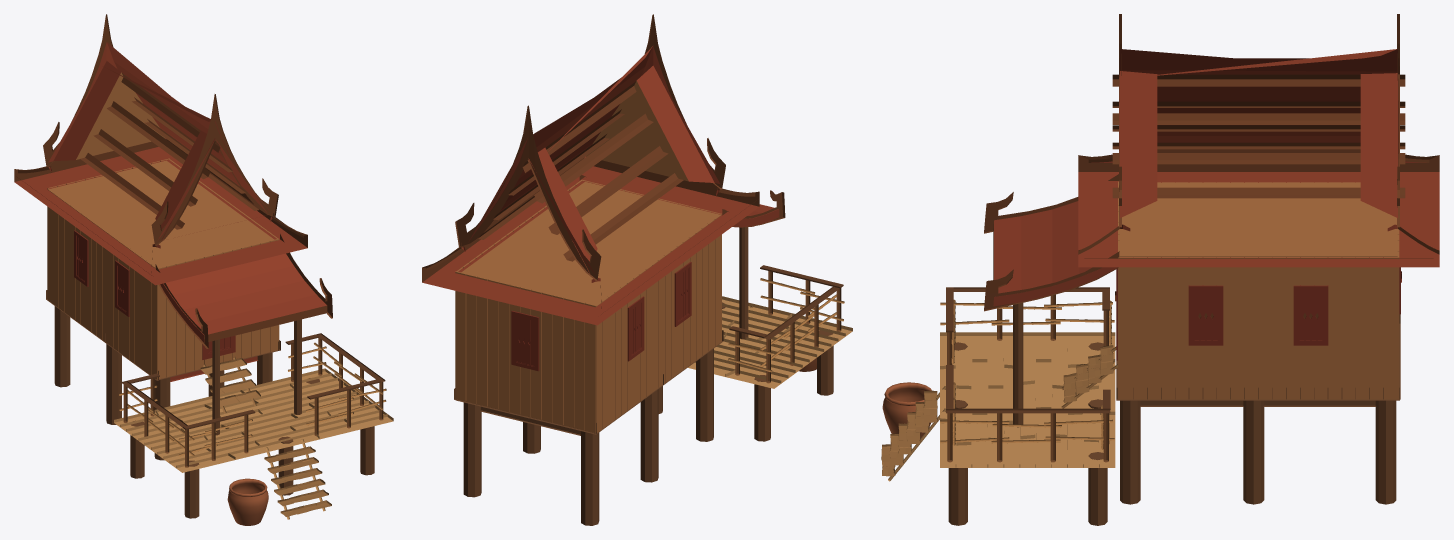
File: thai_house1.glb
3 views of the same model, side by side, from view 1: azimuth 30°, elevation 25°; view 2: azimuth 150°, elevation 25°; view 3: azimuth 270°, elevation 25° (orthographic). The views are drawn at different scales.
Visible parts, largest first — view 1: thai_house1; view 2: thai_house1; view 3: thai_house1.
Part boxes in pixels (x1=…): thai_house1: x1=14, y1=14, x2=393, y2=525; thai_house1: x1=422, y1=14, x2=852, y2=525; thai_house1: x1=881, y1=14, x2=1439, y2=525.
Size of the model in its own units: 5.31 by 8.55 by 9.5.
